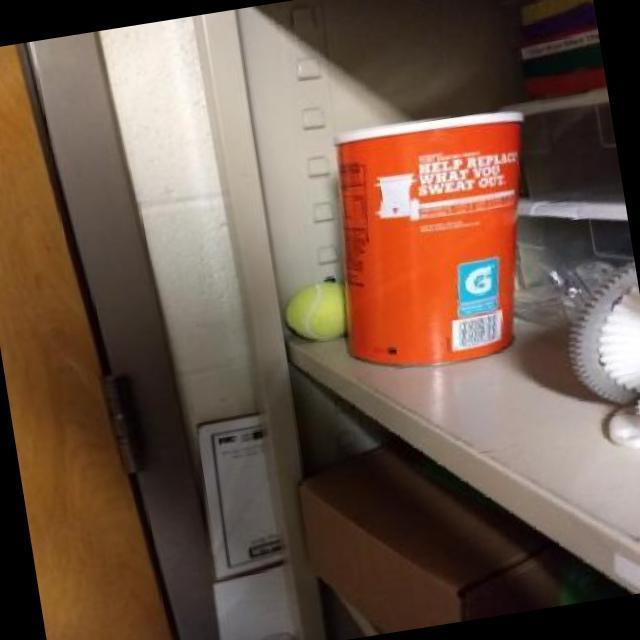-: (278, 260, 365, 369)
